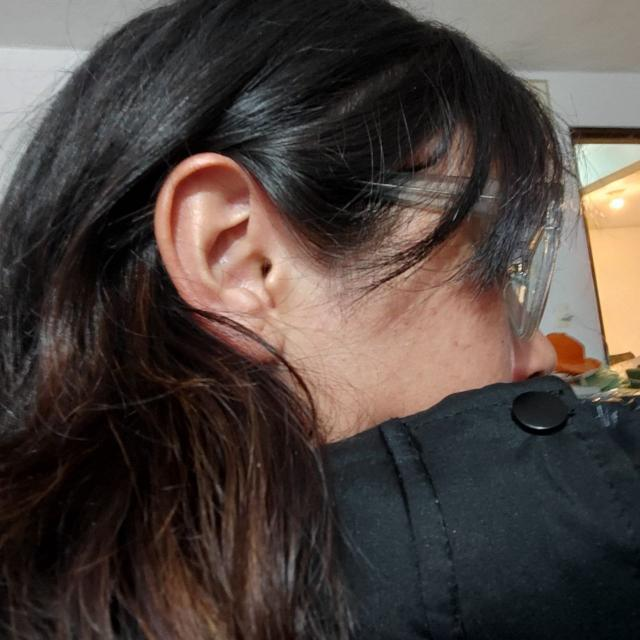ear: (154, 152, 282, 365)
